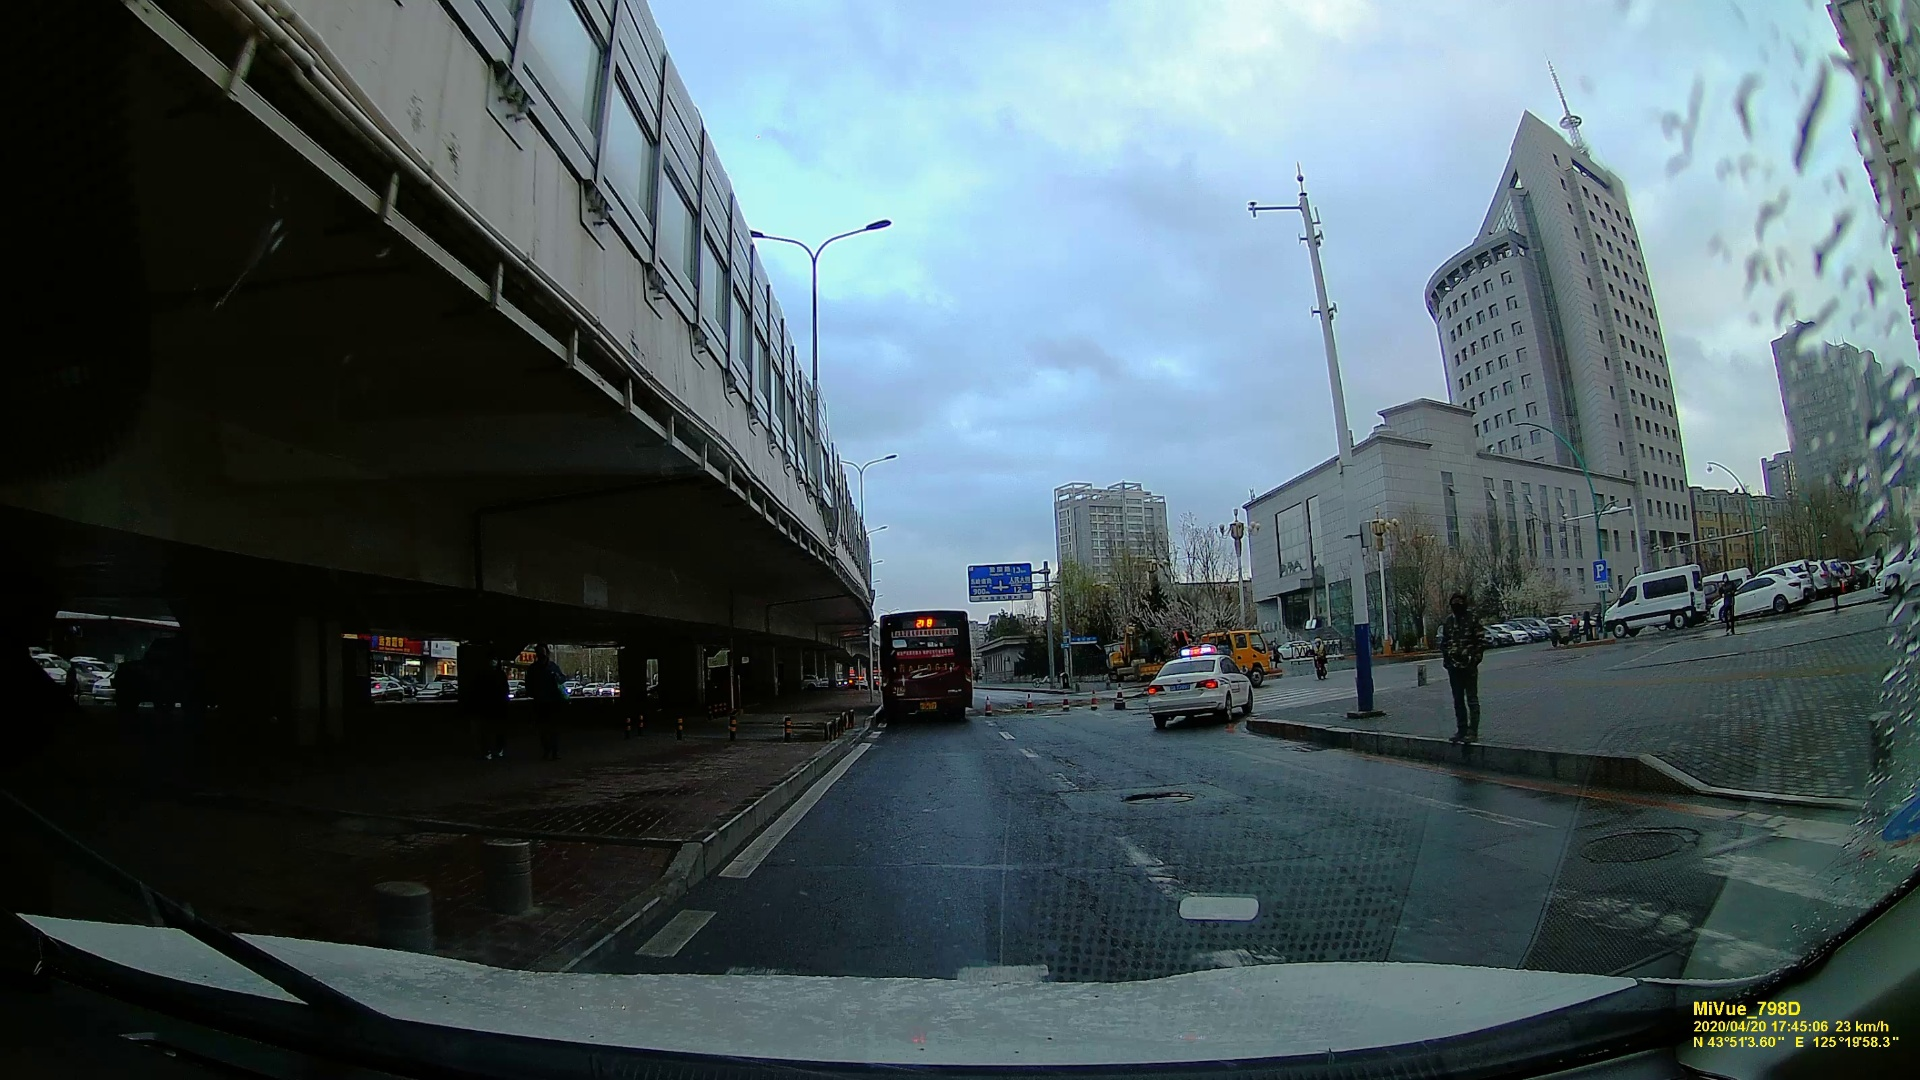bus: (880, 608, 966, 725)
minibus: (1610, 566, 1714, 634)
person: (1439, 592, 1489, 747), (1719, 574, 1739, 640)
traffic_sign: (966, 566, 1030, 599)
vehicle: (1141, 647, 1257, 727)
